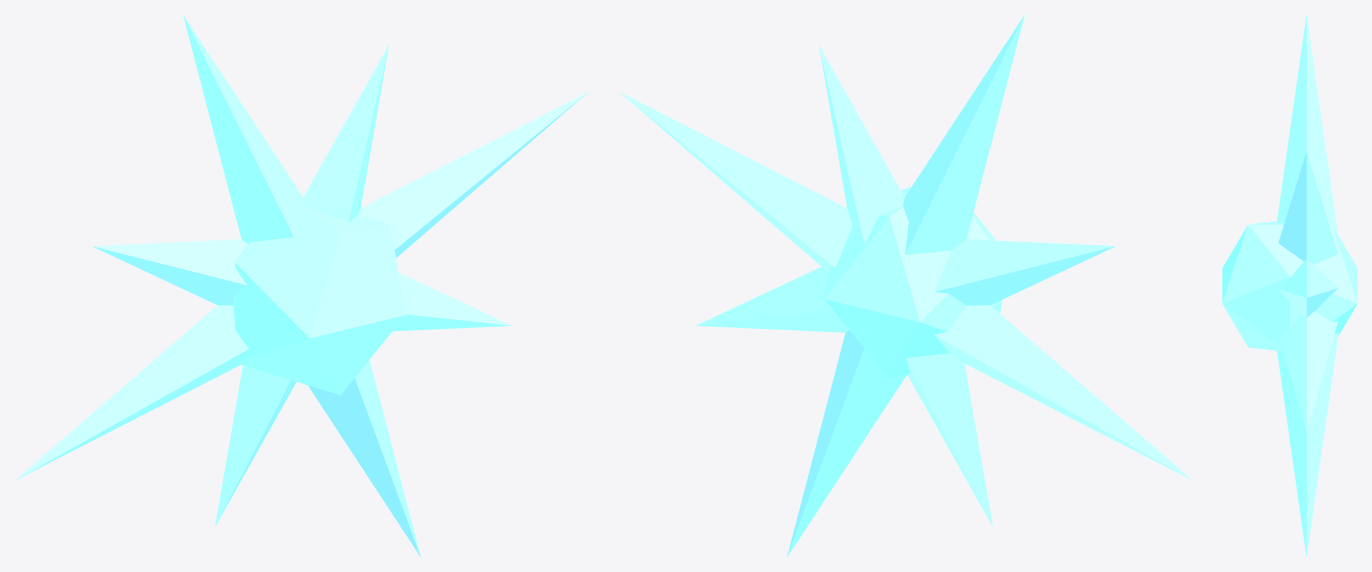
Rendered from burst.glb.
3 renders of one model, left to right at view 1: azimuth 30°, elevation 25°; view 2: azimuth 150°, elevation 25°; view 3: azimuth 270°, elevation 25°, orthographic. The views are drawn at different scales.
Parts seen in each view (by area): view 1: Core, Sp2, Sp4, Sp0, Sp6, Sp1, Sp3, Sp5, Sp7; view 2: Core, Sp2, Sp4, Sp0, Sp6, Sp3, Sp1, Sp5, Sp7; view 3: Core, Sp2, Sp6, Sp7, Sp1, Sp0.
Part boxes in pixels (<box>): Core: <box>233,206,405,395</box>; Sp2: <box>183,15,304,243</box>; Sp4: <box>15,305,248,480</box>; Sp0: <box>358,91,588,257</box>; Sp6: <box>308,360,420,556</box>; Sp1: <box>303,45,388,222</box>; Sp3: <box>92,239,248,305</box>; Sp5: <box>215,365,296,526</box>; Sp7: <box>393,272,511,331</box>; Core: <box>824,187,1002,379</box>; Sp2: <box>903,15,1024,254</box>; Sp4: <box>934,305,1192,480</box>; Sp0: <box>619,91,852,270</box>; Sp6: <box>787,330,906,556</box>; Sp3: <box>935,239,1115,305</box>; Sp1: <box>819,45,904,243</box>; Sp5: <box>905,353,992,526</box>; Sp7: <box>696,266,848,332</box>; Core: <box>1222,221,1357,351</box>; Sp2: <box>1277,15,1337,234</box>; Sp6: <box>1277,332,1338,556</box>; Sp7: <box>1279,311,1337,432</box>; Sp1: <box>1278,152,1337,264</box>; Sp0: <box>1278,260,1338,317</box>.
Bounding box in the file's own units: 1.52 × 1.52 × 0.4083.
